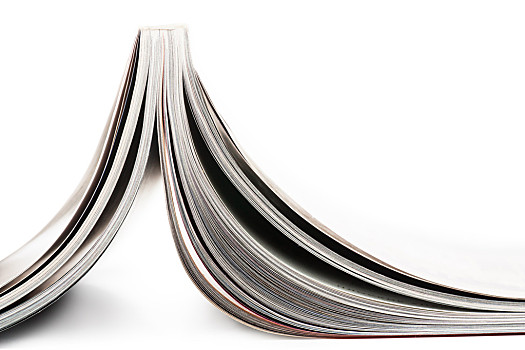book: (1, 13, 525, 343)
